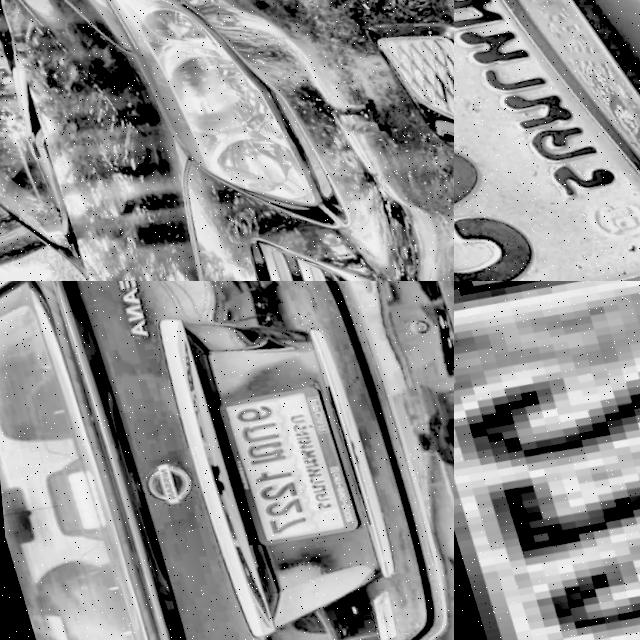license-plate: (454, 281, 640, 640), (454, 0, 640, 281), (209, 375, 361, 548)
